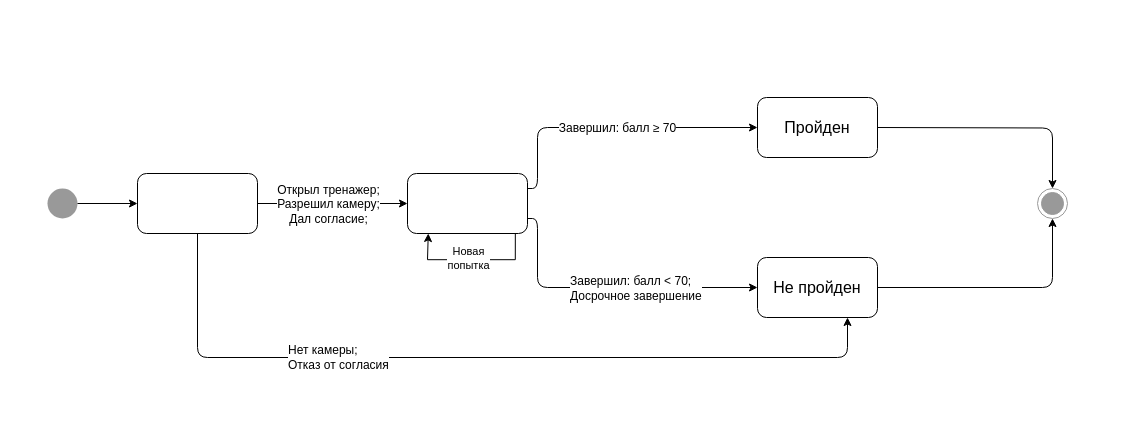
The diagram is 1134 pixels wide and 434 high, and some of its shapes have lost their labels. Each missing label, with the centre of its shape:
"В процессе" goes at pixel 467 203.
"Не начат" goes at pixel 197 203.
